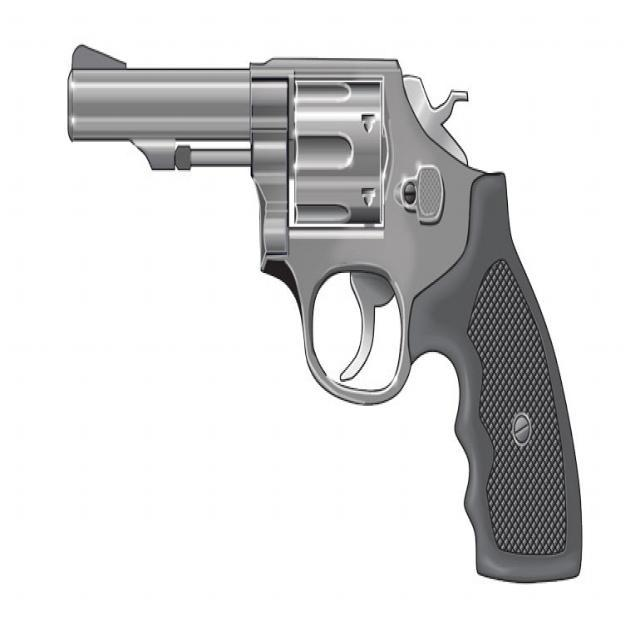pistol: (61, 30, 586, 585)
